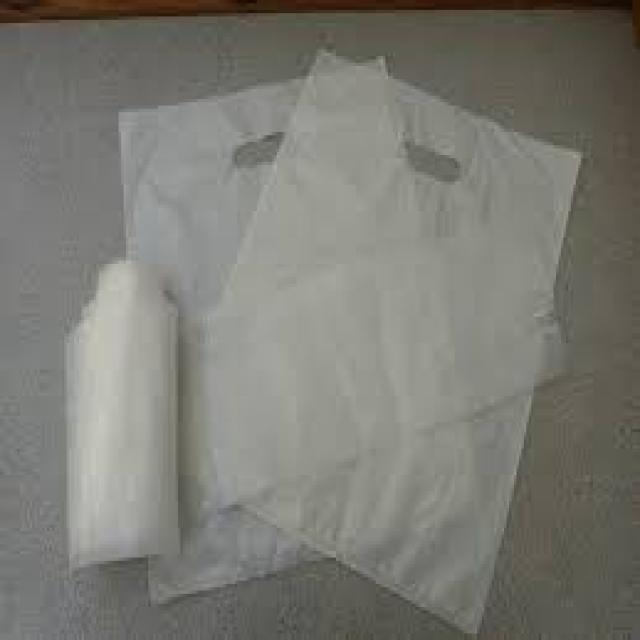plastic: (173, 46, 578, 637), (114, 50, 479, 601), (59, 258, 178, 568)
